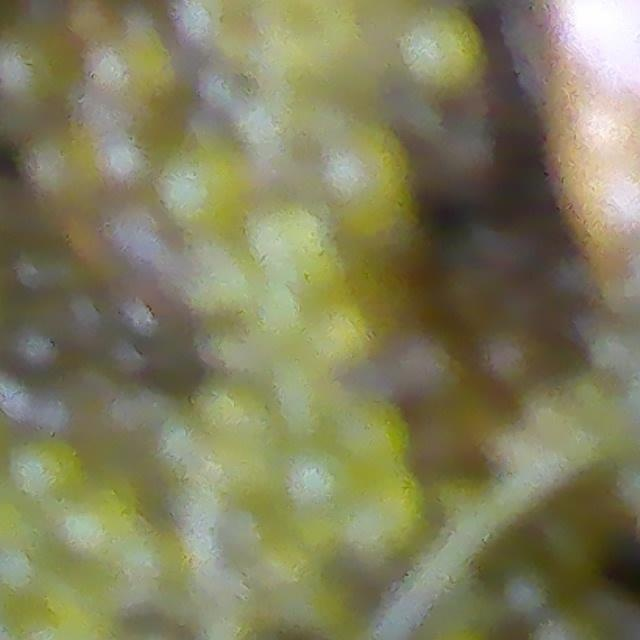SeaGrape: (153, 128, 260, 241), (388, 0, 491, 103), (278, 437, 360, 519), (8, 433, 88, 508)
